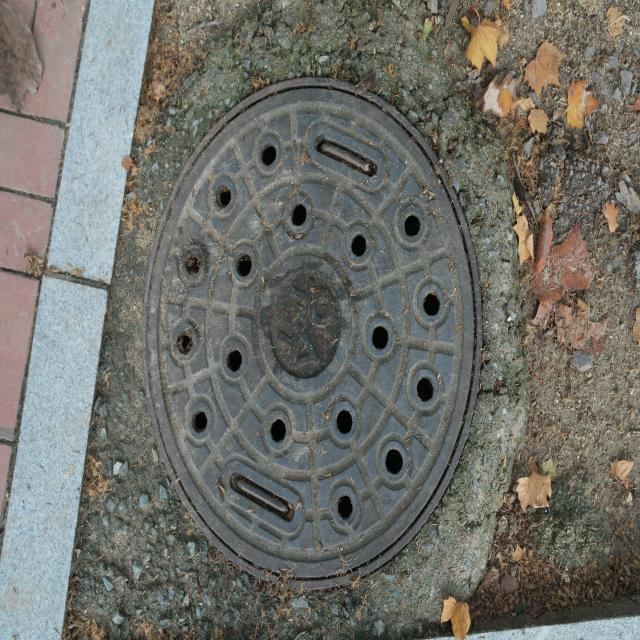manhole: (146, 78, 480, 588)
